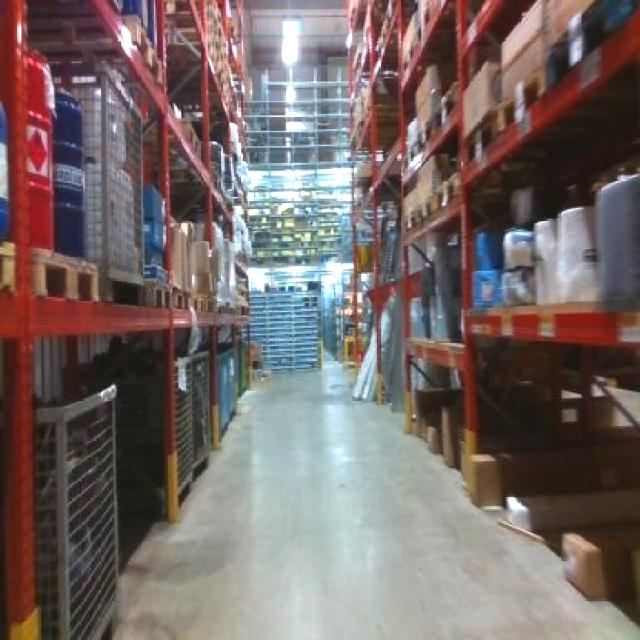pallets: (346, 0, 637, 615), (248, 291, 315, 368)
